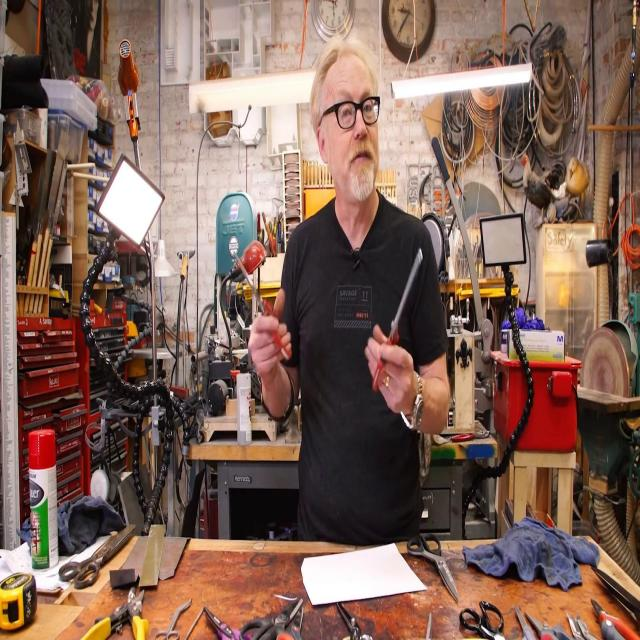scissor: (373, 250, 423, 390), (236, 254, 292, 361), (58, 524, 136, 589), (408, 534, 458, 602), (240, 599, 304, 640), (591, 567, 640, 613), (590, 599, 640, 639), (459, 600, 505, 640), (204, 607, 250, 640), (524, 611, 574, 640), (336, 601, 372, 640), (277, 607, 305, 640), (515, 605, 535, 640)
